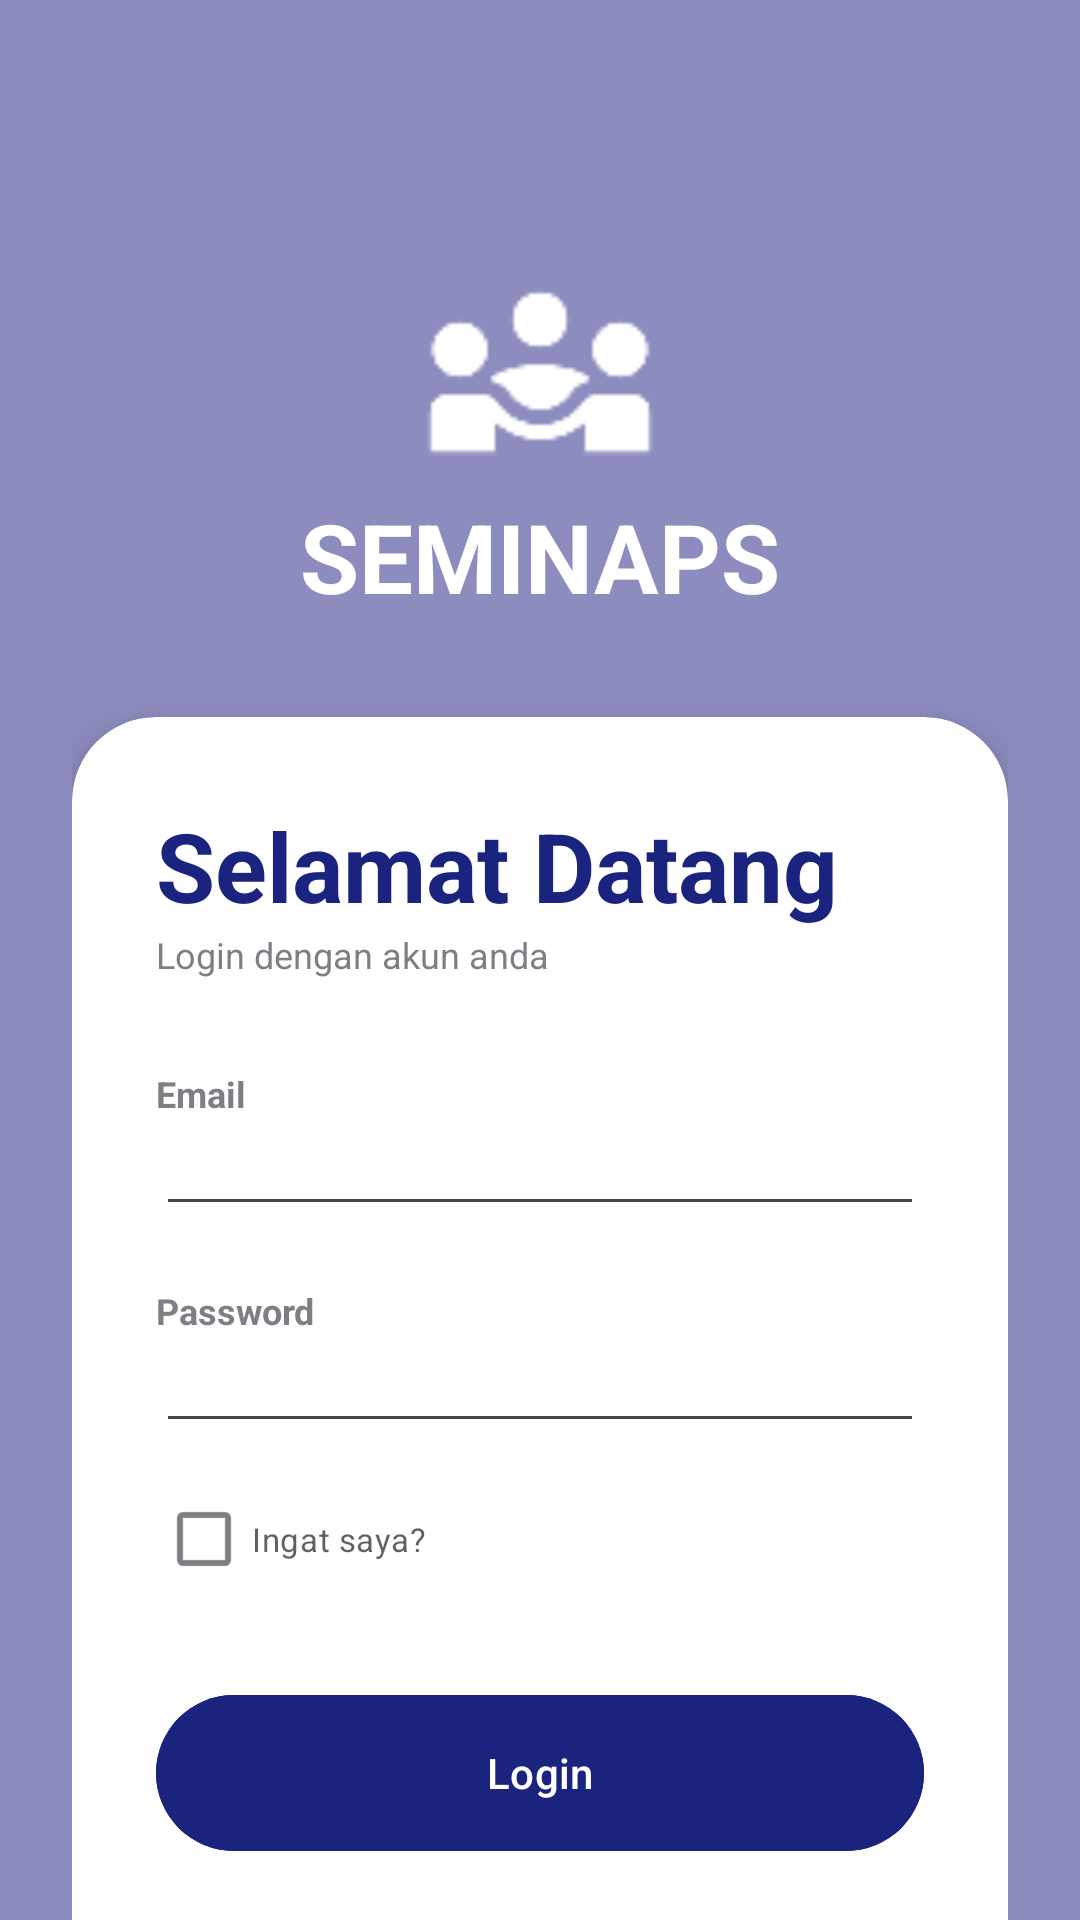

Icon bounding boxes for this 1080px×1920px phone screenshot, format {"left": x1, "top": y1, "right": x2, "bottom": y2}:
community: {"left": 429, "top": 292, "right": 651, "bottom": 453}
